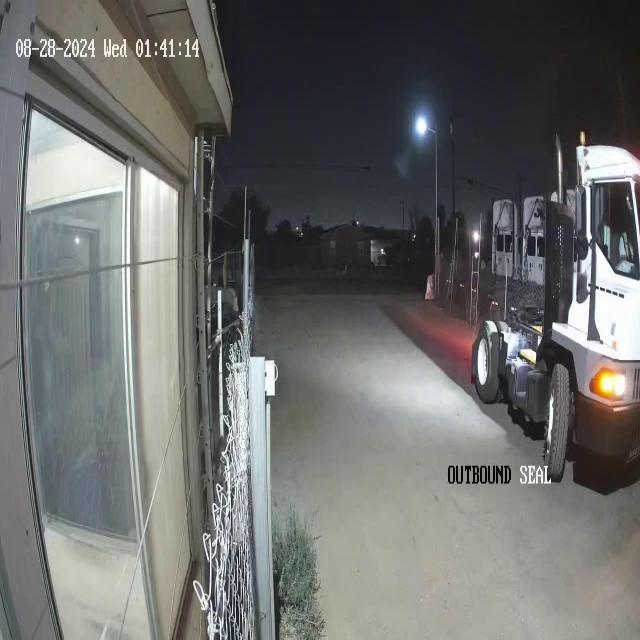BOBTAIL: (471, 127, 639, 485)
